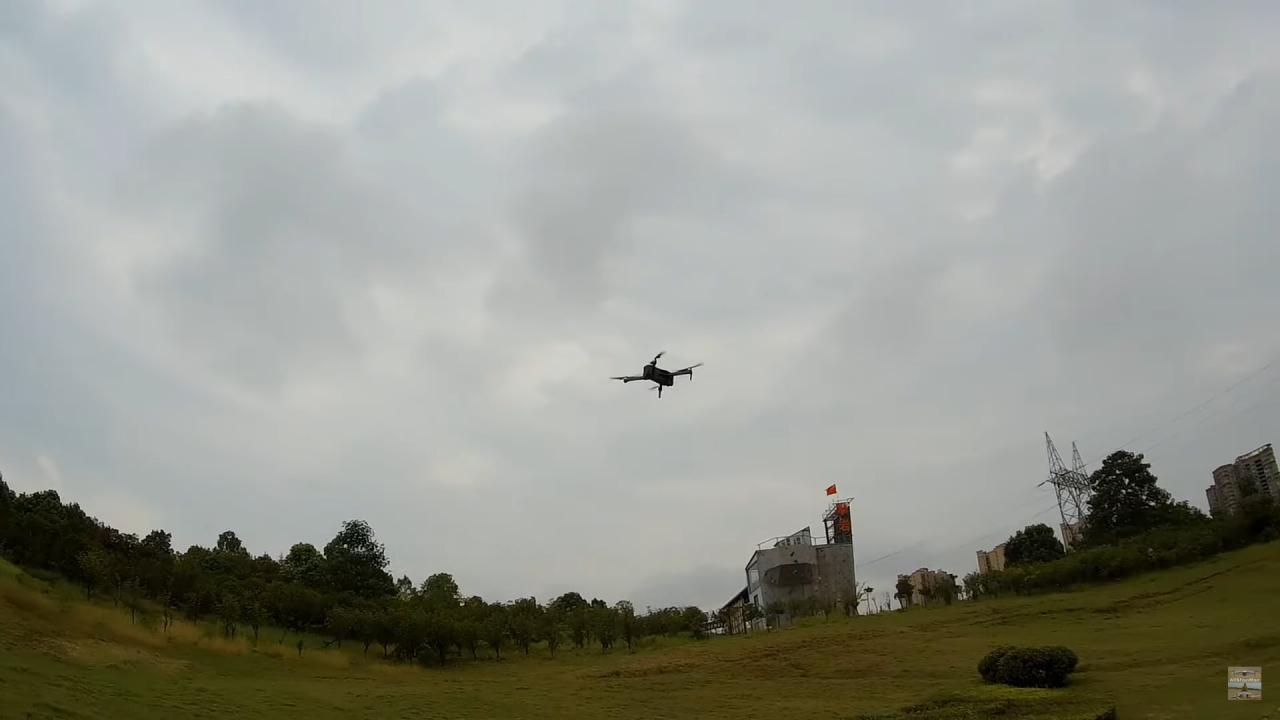Drone: (598, 339, 713, 407)
